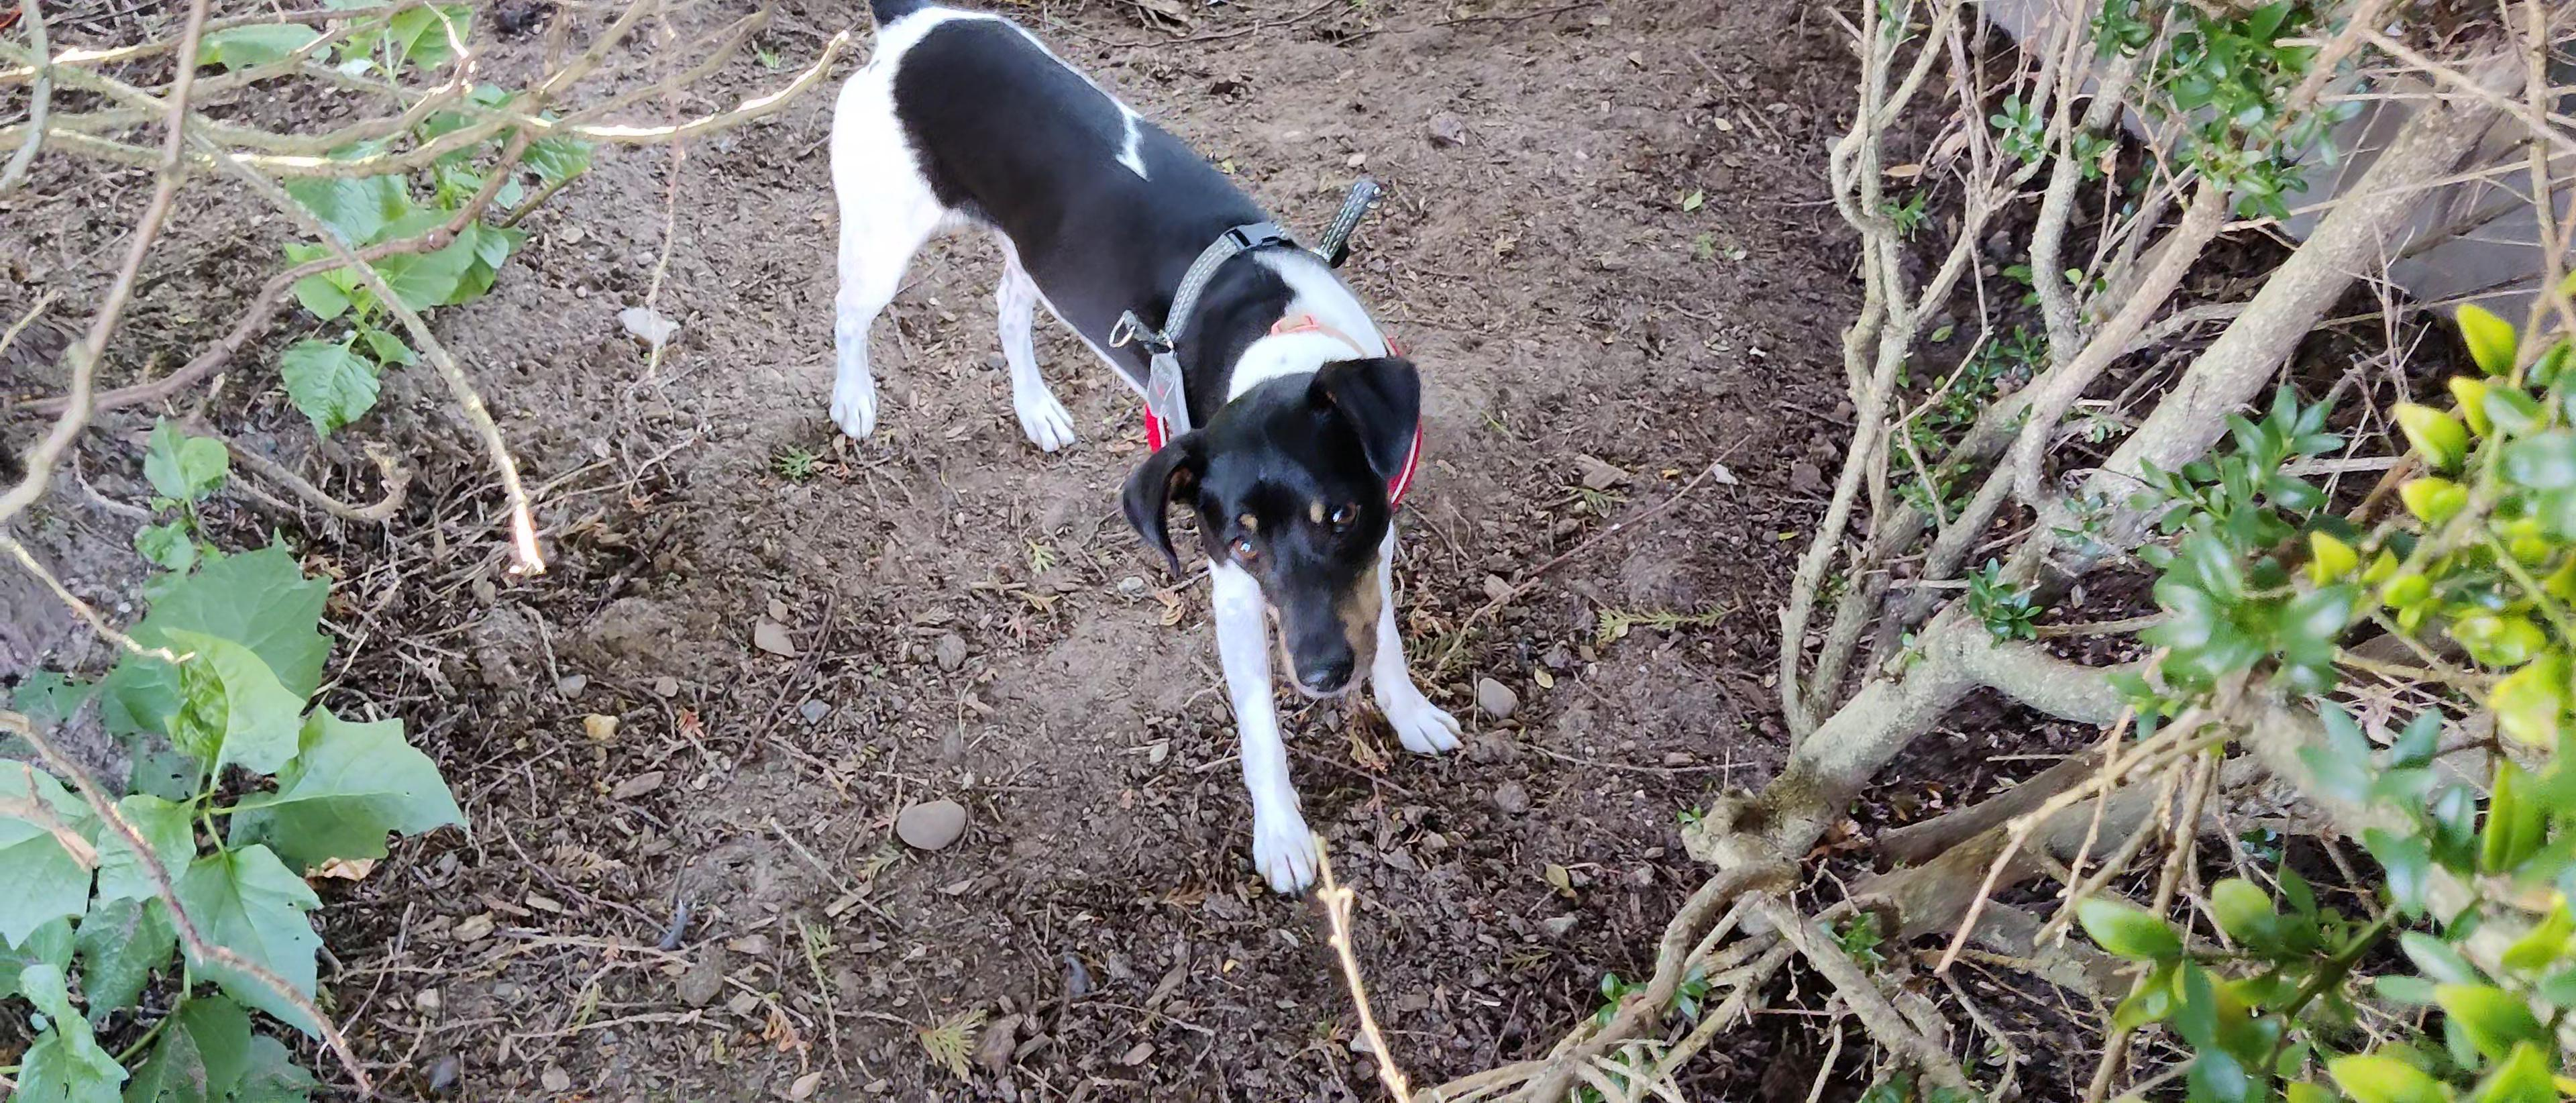Dog: (805, 0, 1475, 906)
